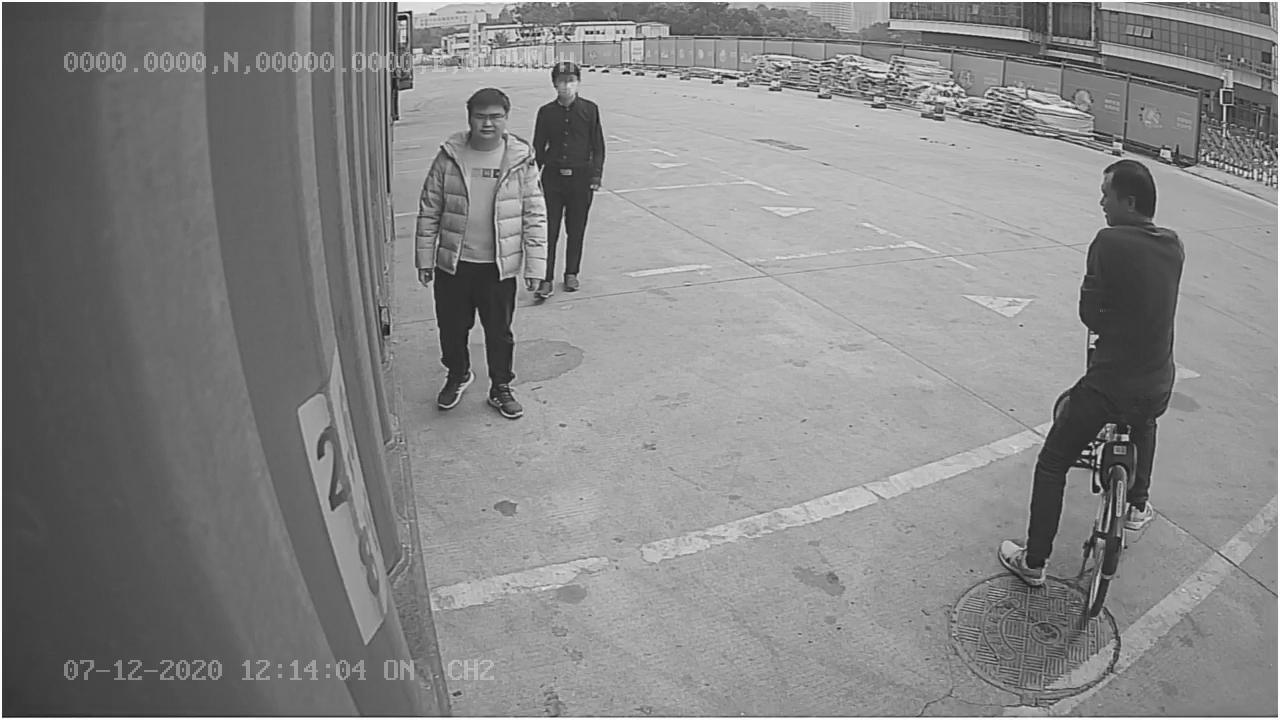person: (417, 85, 552, 428)
